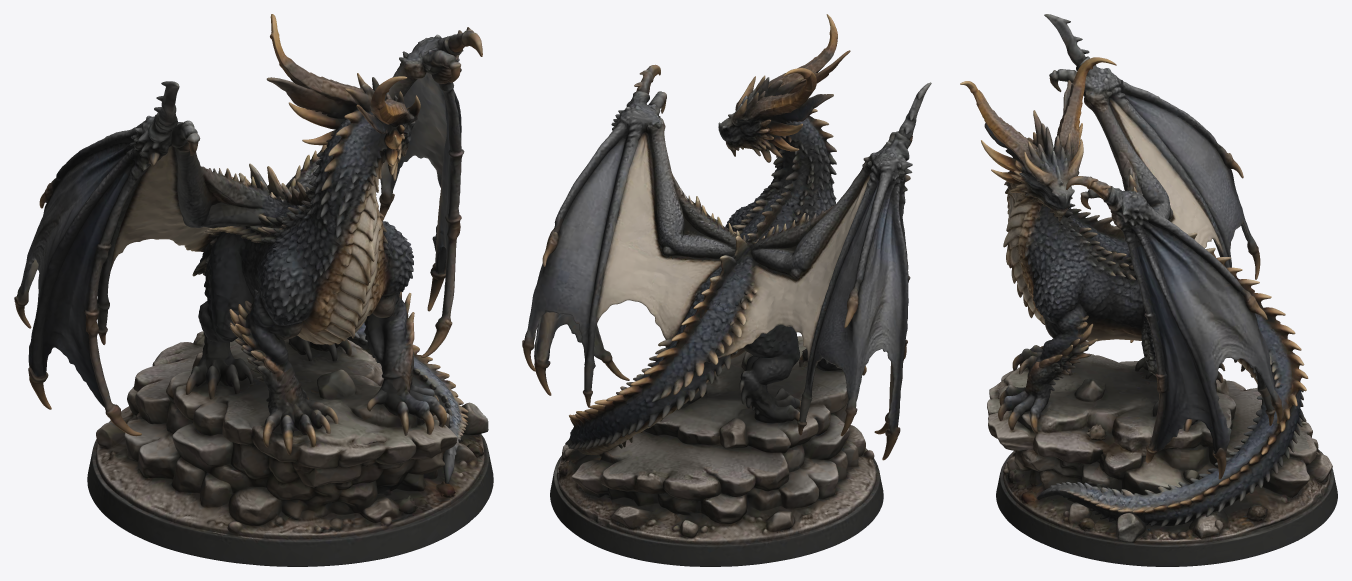
Rendered from compress_ioo90nx1jntlov68.glb.
3 views of the same model, side by side, from view 1: azimuth 30°, elevation 25°; view 2: azimuth 150°, elevation 25°; view 3: azimuth 270°, elevation 25° (orthographic). The views are drawn at different scales.
Parts seen in each view (by area): view 1: tripo_node_aa9560af-39ec-44f5-b9d4-2eab30810639; view 2: tripo_node_aa9560af-39ec-44f5-b9d4-2eab30810639; view 3: tripo_node_aa9560af-39ec-44f5-b9d4-2eab30810639.
Boxes of the visible parts, x1,y1,x2,y2 form: tripo_node_aa9560af-39ec-44f5-b9d4-2eab30810639: (14,14,493,566); tripo_node_aa9560af-39ec-44f5-b9d4-2eab30810639: (522,14,931,566); tripo_node_aa9560af-39ec-44f5-b9d4-2eab30810639: (960,14,1337,566).
Bounding box in the file's own units: 0.8948 × 1 × 0.8237.
1 material, 1 textured.
